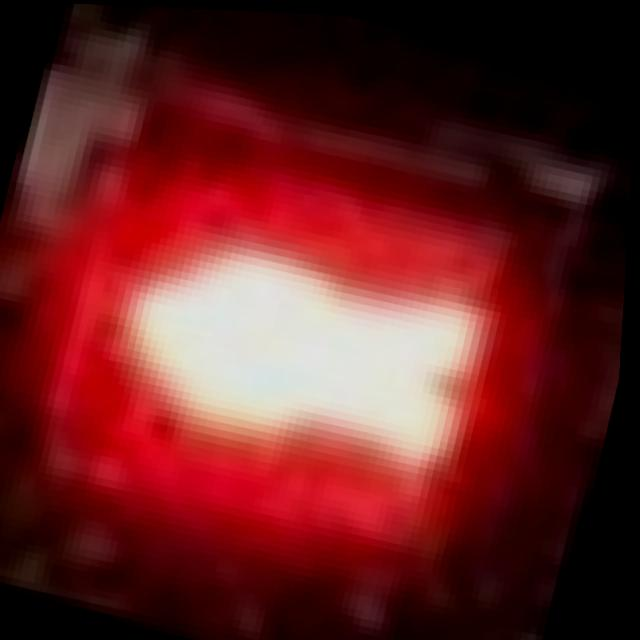red_light: (30, 102, 555, 577)
